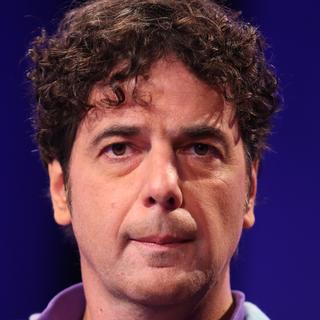eye: (94, 139, 144, 163), (177, 141, 224, 166)
